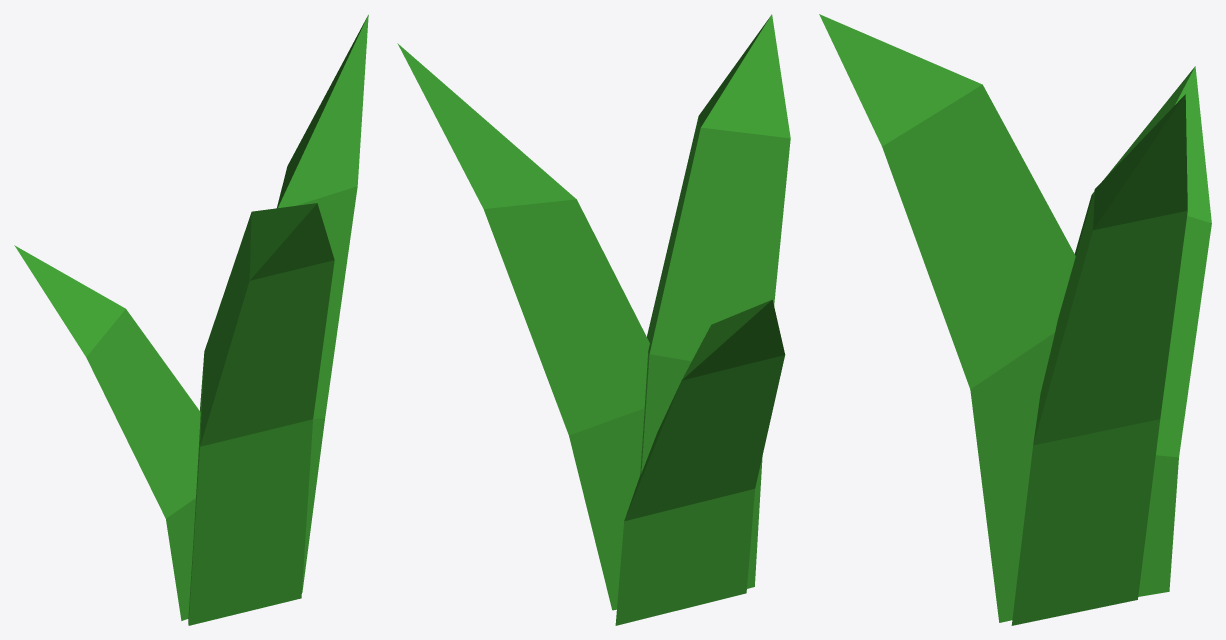
Rendered from Grass_3.glb.
3 views of the same model, side by side, from view 1: azimuth 30°, elevation 25°; view 2: azimuth 150°, elevation 25°; view 3: azimuth 270°, elevation 25° (orthographic). The views are drawn at different scales.
Visible parts, largest first — view 1: GrassBunch2; view 2: GrassBunch2; view 3: GrassBunch2.
Boxes of the visible parts, bbox=[...] form: GrassBunch2: bbox=[14, 14, 368, 625]; GrassBunch2: bbox=[397, 14, 790, 625]; GrassBunch2: bbox=[819, 14, 1211, 625].
Size of the model in its own units: 0.4666 by 0.6339 by 0.3641.
